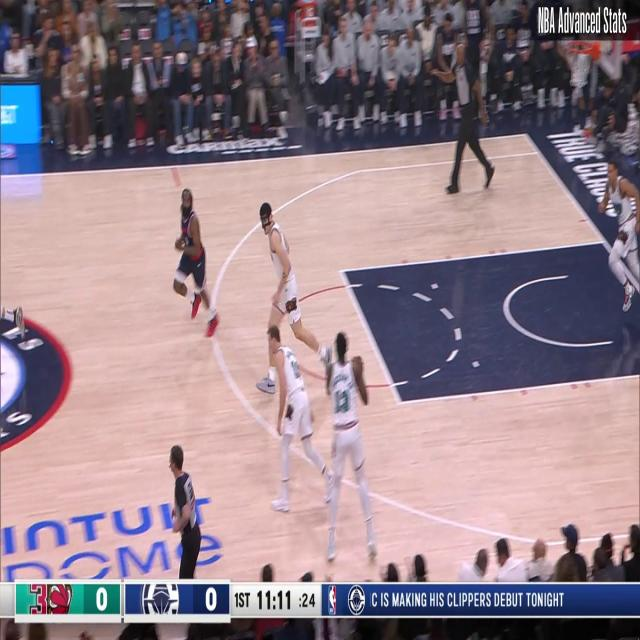judge: (429, 42, 490, 196), (168, 442, 200, 593)
player: (260, 205, 328, 388), (268, 327, 330, 525), (324, 336, 376, 562), (168, 181, 226, 344), (595, 162, 640, 310)
